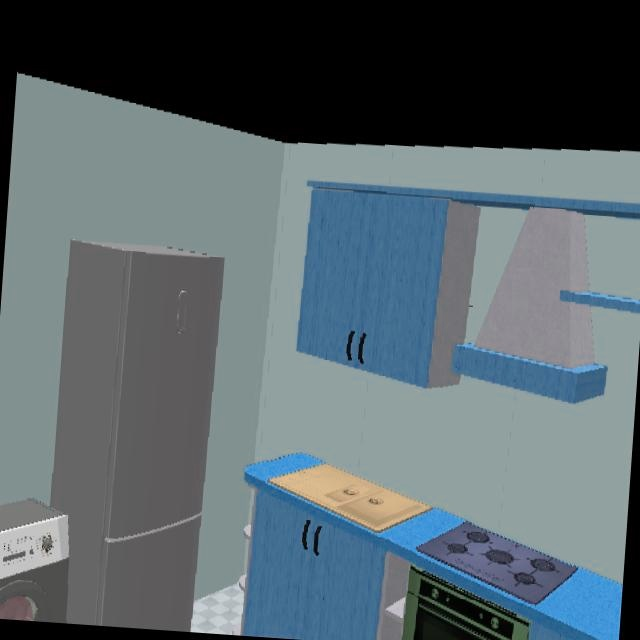cabinet: (240, 490, 622, 640), (295, 183, 452, 389)
countertop: (244, 453, 622, 640)
fridge: (50, 240, 227, 632)
sink: (265, 459, 437, 536)
stove: (416, 522, 572, 603)
